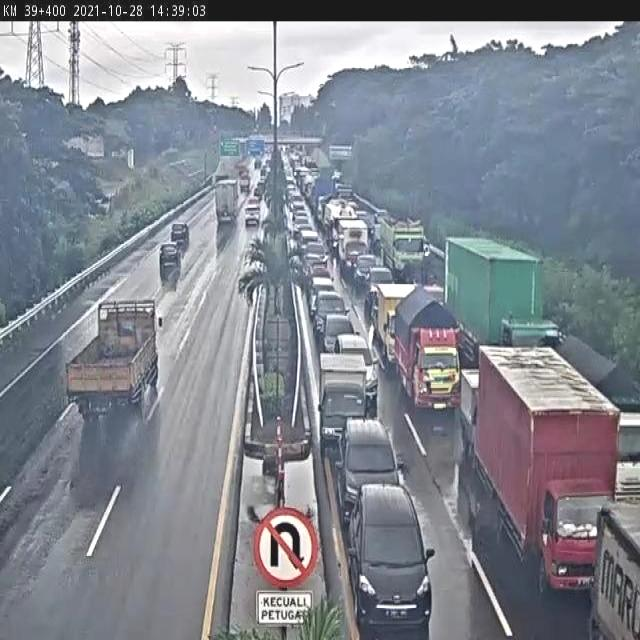Car: (344, 481, 436, 632), (335, 420, 404, 526), (333, 334, 375, 412), (312, 290, 347, 342), (320, 311, 357, 359), (363, 264, 395, 306), (353, 254, 381, 294), (308, 276, 336, 316), (306, 264, 335, 284), (158, 243, 182, 267), (304, 242, 329, 265), (297, 230, 319, 249), (245, 202, 261, 228), (171, 222, 190, 242)
Truck: (474, 344, 624, 596), (444, 235, 564, 368), (556, 334, 640, 503), (66, 297, 164, 417), (394, 281, 464, 412), (587, 497, 640, 640), (316, 351, 368, 456), (376, 281, 417, 370), (380, 215, 429, 272), (325, 198, 360, 256), (336, 218, 370, 276), (460, 365, 480, 456), (214, 178, 239, 222), (312, 175, 334, 223)
